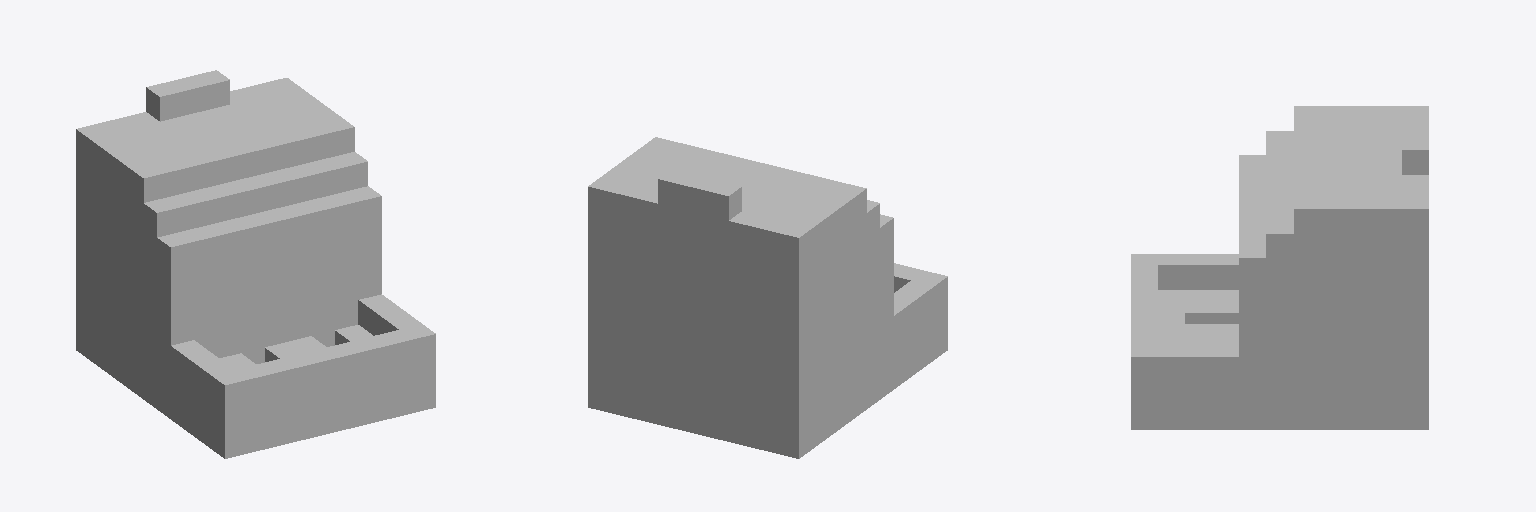
Rendered from Cash Register.obj.
3 renders of one model, left to right at view 1: azimuth 30°, elevation 25°; view 2: azimuth 150°, elevation 25°; view 3: azimuth 270°, elevation 25°, orthographic.
Parts seen in each view (by area): view 1: object 1; view 2: object 1; view 3: object 1.
Boxes of the visible parts, x1,y1,x2,y2 form: object 1: [76, 70, 435, 458]; object 1: [588, 137, 947, 458]; object 1: [1131, 106, 1428, 429].
Bounding box in the file's own units: 0.9 × 1 × 1.1.